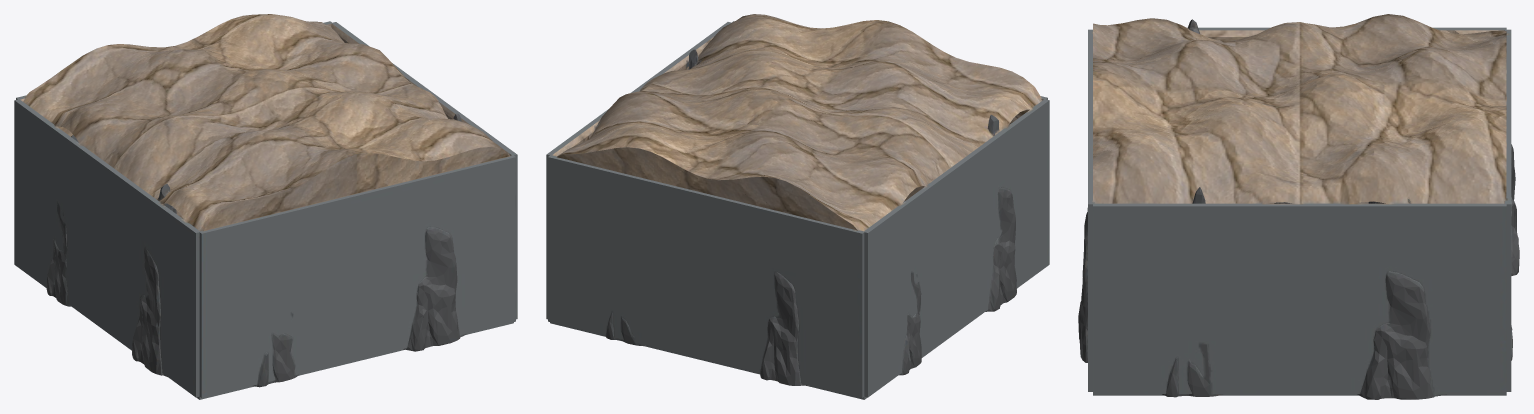
Rendered from room.glb.
3 renders of one model, left to right at view 1: azimuth 30°, elevation 25°; view 2: azimuth 150°, elevation 25°; view 3: azimuth 270°, elevation 25°, orthographic. The views are drawn at different scales.
Parts seen in each view (by area): view 1: SMALL-ROOM; view 2: SMALL-ROOM; view 3: SMALL-ROOM.
Boxes of the visible parts, bbox=[...] form: SMALL-ROOM: bbox=[14, 14, 517, 399]; SMALL-ROOM: bbox=[546, 14, 1049, 399]; SMALL-ROOM: bbox=[1078, 14, 1519, 399].
Size of the model in its own units: 6.39 by 3.78 by 6.4.
1 material, 1 textured.
